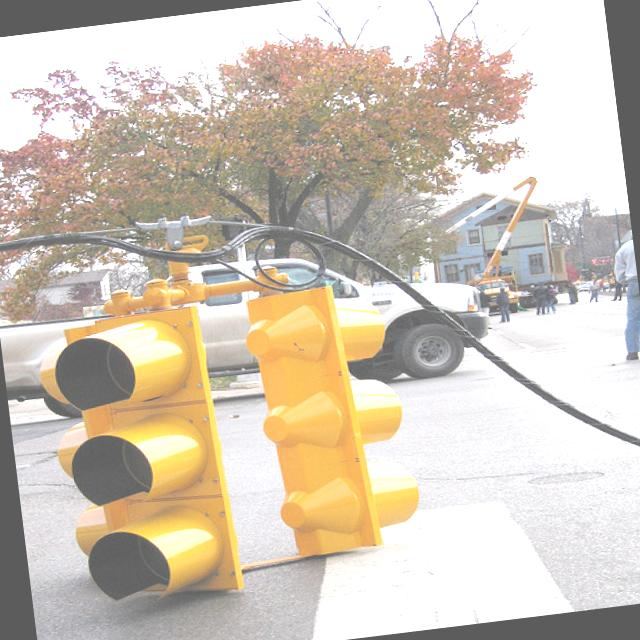Vehicle: (0, 258, 265, 396), (322, 248, 496, 386), (472, 276, 520, 318)
